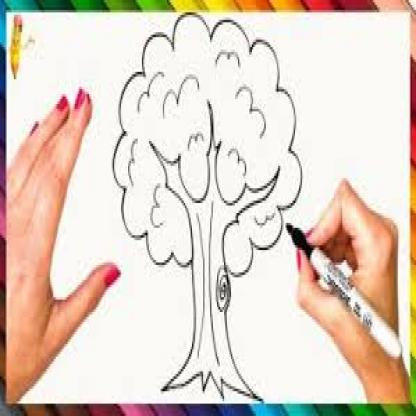branch_sharp: (146, 98, 282, 218)
crown_cloud: (113, 13, 305, 278)
knot: (214, 266, 233, 316)
root_only: (160, 346, 265, 402)
trunk_bark: (187, 279, 234, 347)
